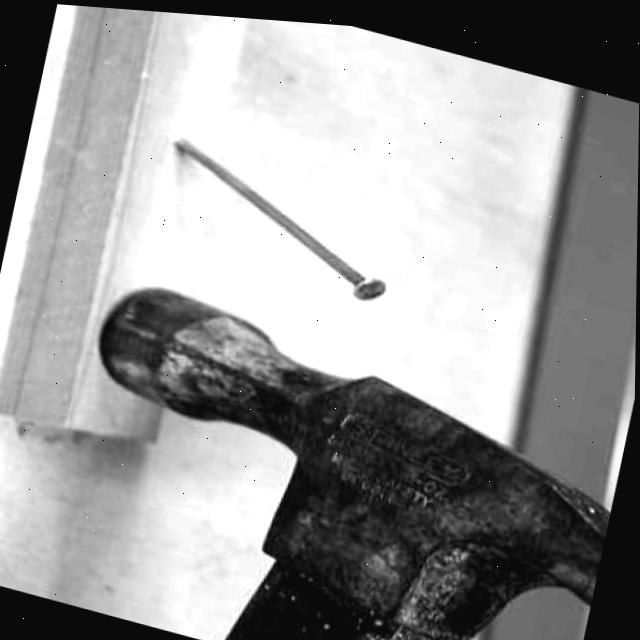hammer: (37, 222, 637, 640)
